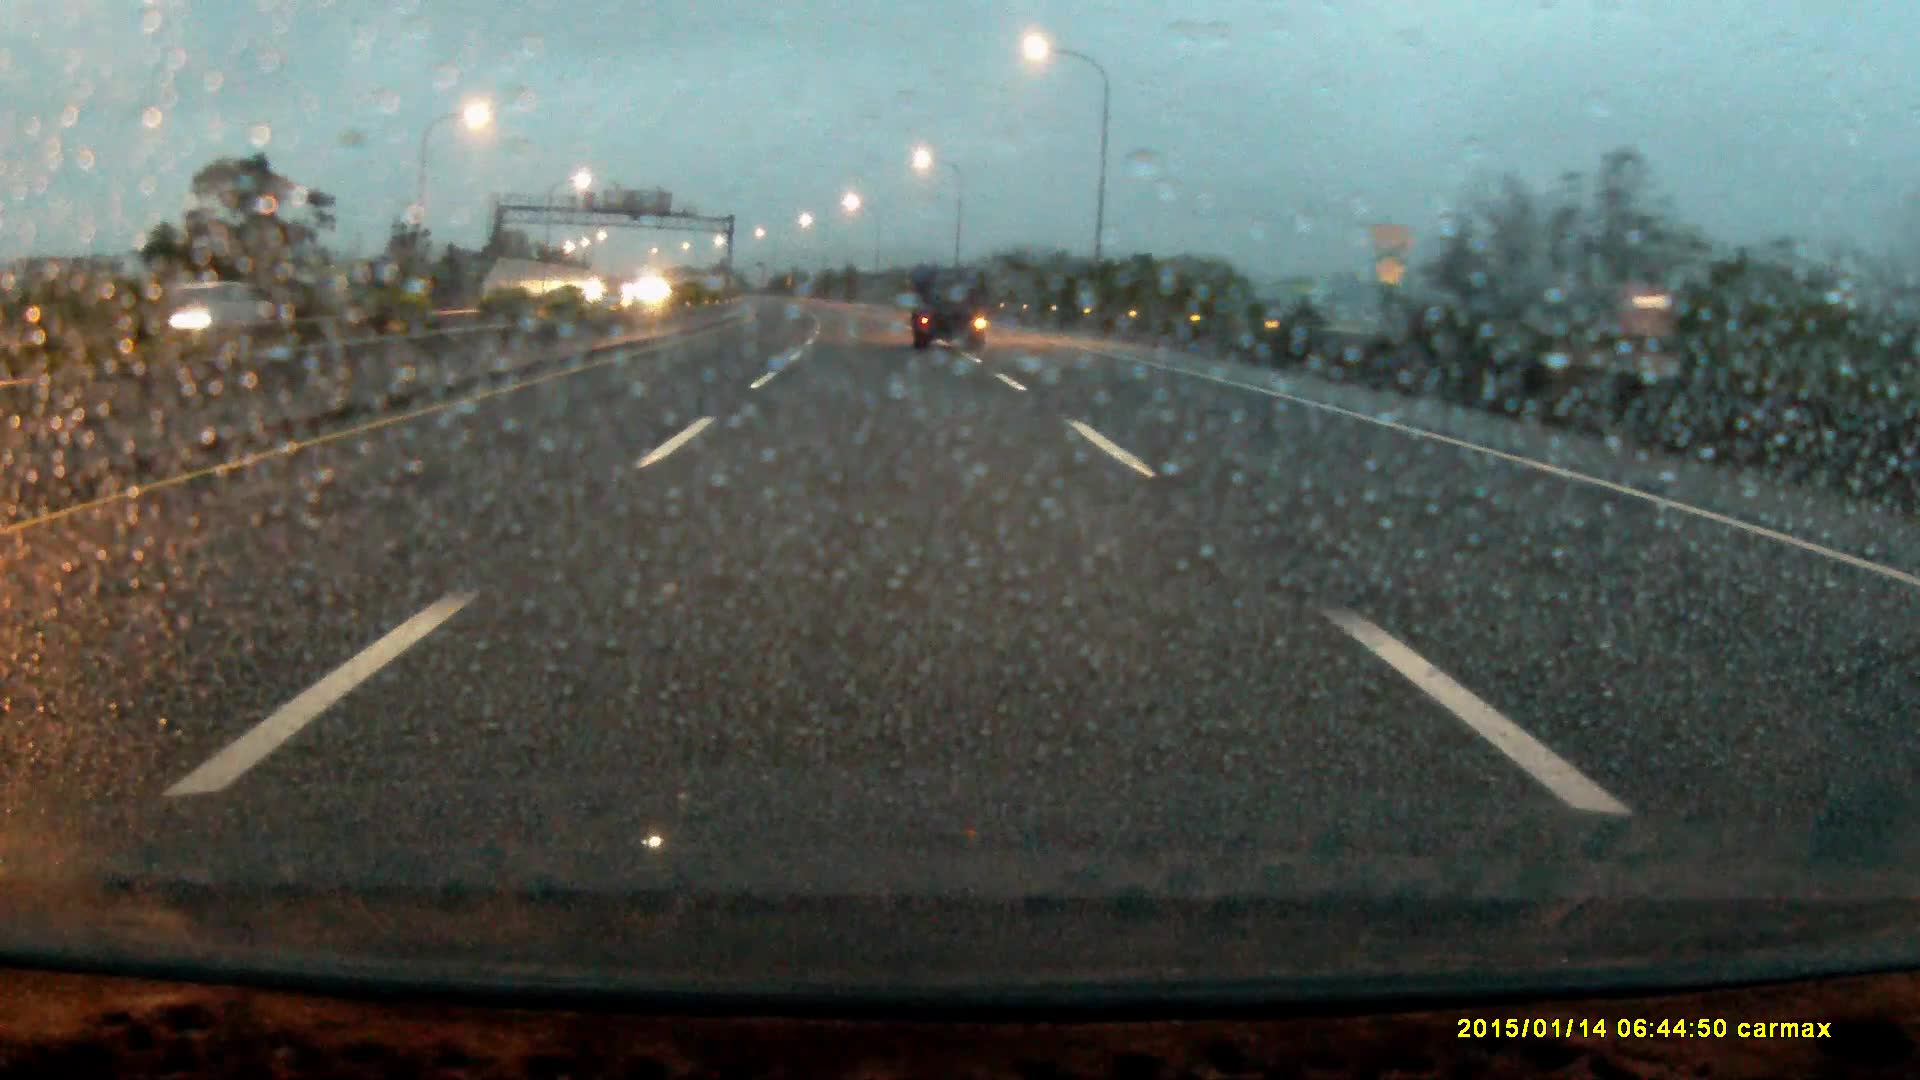vehicle: (911, 272, 989, 356)
